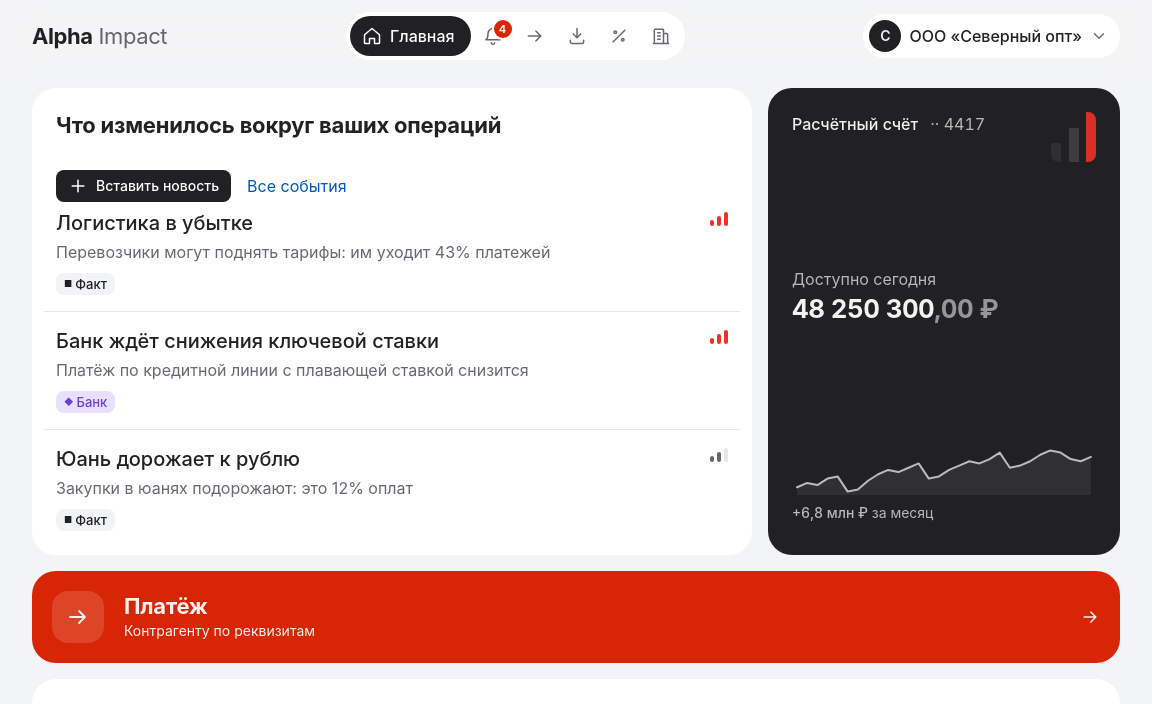
Layout › switches the company and shows its own feed on the same screen
Check: the link "Логистика в убытке" is shown, box top-left (56, 211), bottom-right (253, 235)
Click the dropdown named "Компания" at {"x": 992, "y": 36}, box top-left (863, 14), bottom-right (1120, 58)
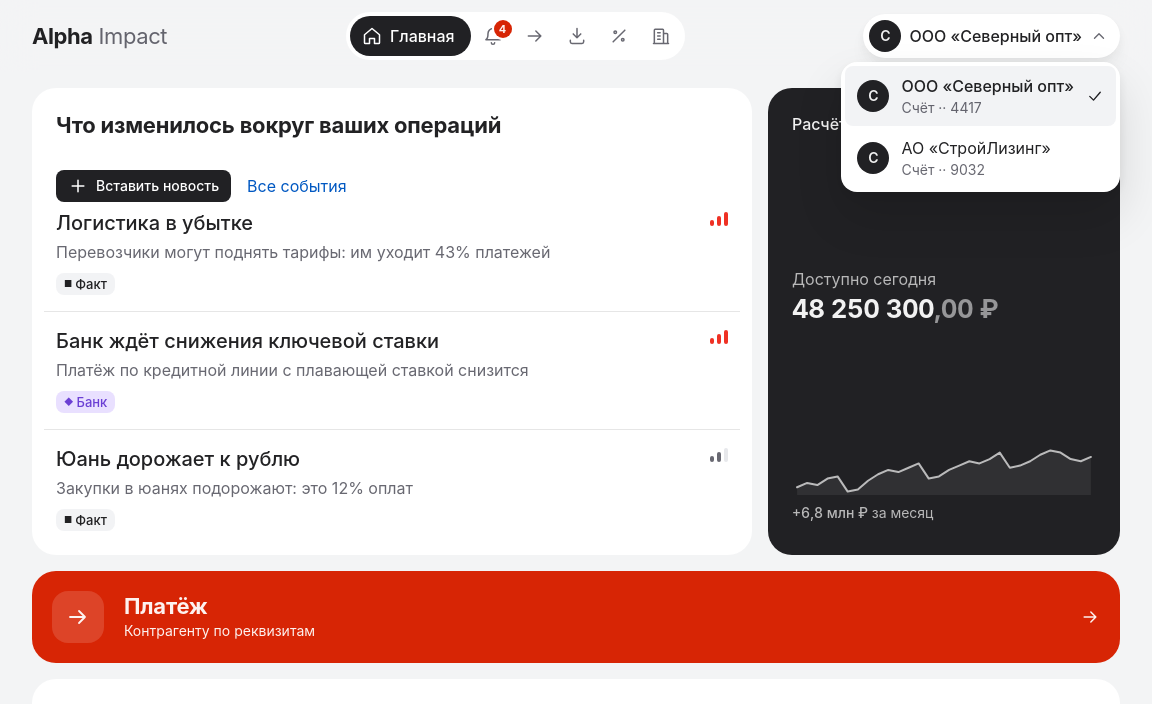
Click the option "С АО «СтройЛизинг» Счёт ·· 9032" at {"x": 954, "y": 158}, box top-left (857, 138), bottom-right (1051, 178)
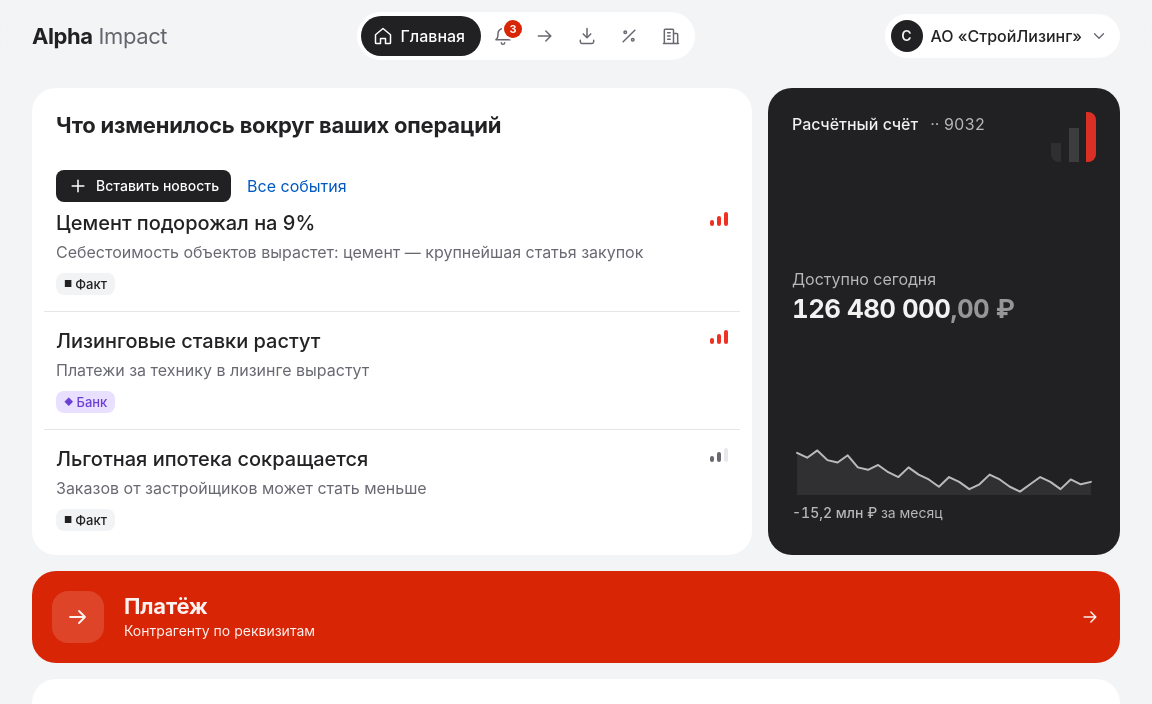
Check: the link "Цемент подорожал на 9%" is shown, box top-left (56, 211), bottom-right (315, 235)
Check: the link "Логистика в убытке" is gone
